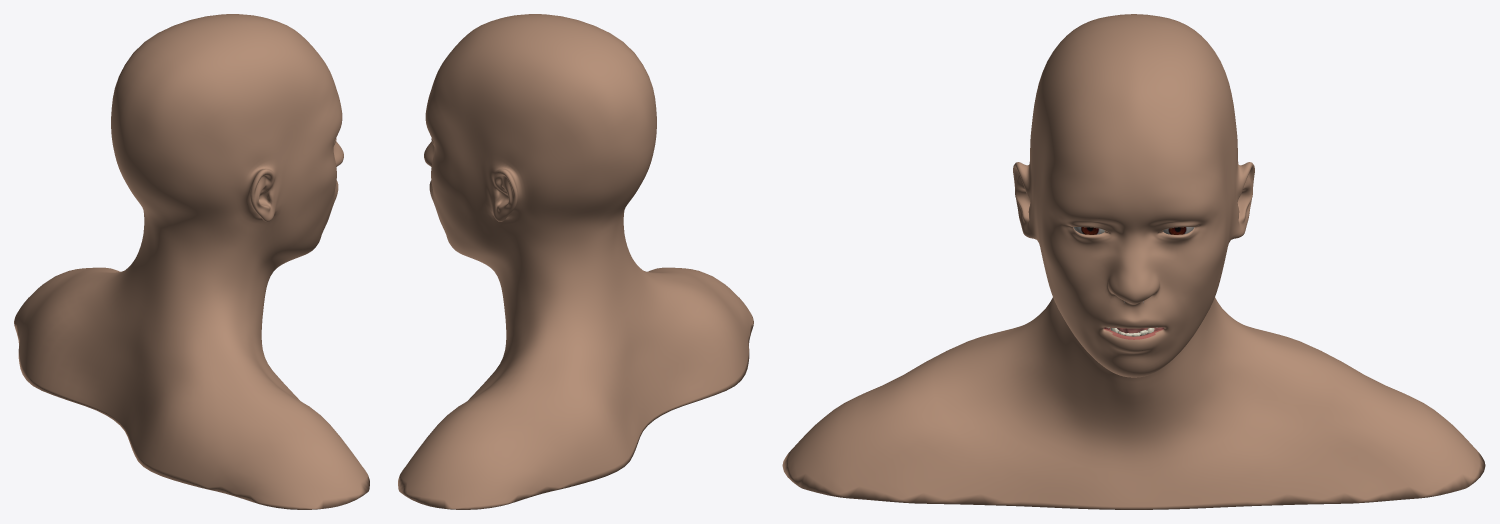
The model's file is character-assembly.glb.
3 renders of one model, left to right at view 1: azimuth 30°, elevation 25°; view 2: azimuth 150°, elevation 25°; view 3: azimuth 270°, elevation 25°, orthographic. The views are drawn at different scales.
Visible parts, largest first — view 1: HEAD_SKIN; view 2: HEAD_SKIN; view 3: HEAD_SKIN.
Part boxes in pixels (<box>): HEAD_SKIN: <box>14,14,369,509</box>; HEAD_SKIN: <box>398,14,753,509</box>; HEAD_SKIN: <box>782,14,1485,509</box>.
Size of the model in its own units: 0.249 by 0.3456 by 0.4908.
Materials: 14 (1 with a texture image).
